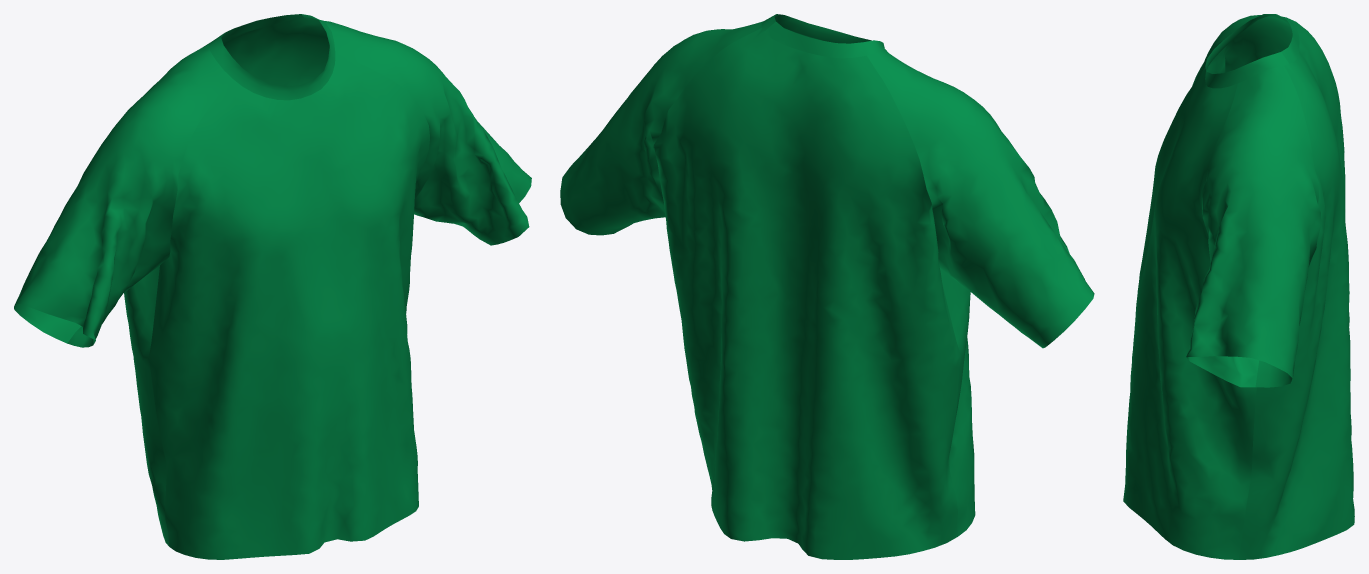
Rendered from Top01.glb.
3 renders of one model, left to right at view 1: azimuth 30°, elevation 25°; view 2: azimuth 150°, elevation 25°; view 3: azimuth 270°, elevation 25°, orthographic. The views are drawn at different scales.
Visible parts, largest first — view 1: Cloth; view 2: Cloth; view 3: Cloth.
Boxes of the visible parts, <box> form: Cloth: <box>14,14,531,559</box>; Cloth: <box>560,14,1094,559</box>; Cloth: <box>1123,14,1354,559</box>.
Bounding box in the file's own units: 77.98 × 70.49 × 31.19.
